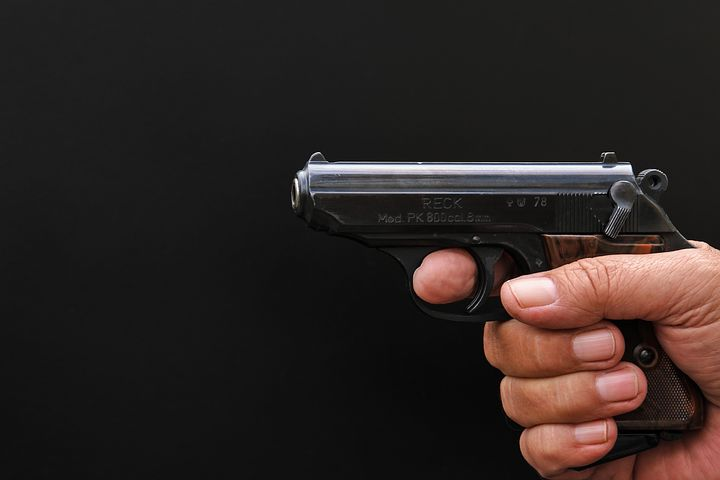gun: (285, 147, 711, 448)
